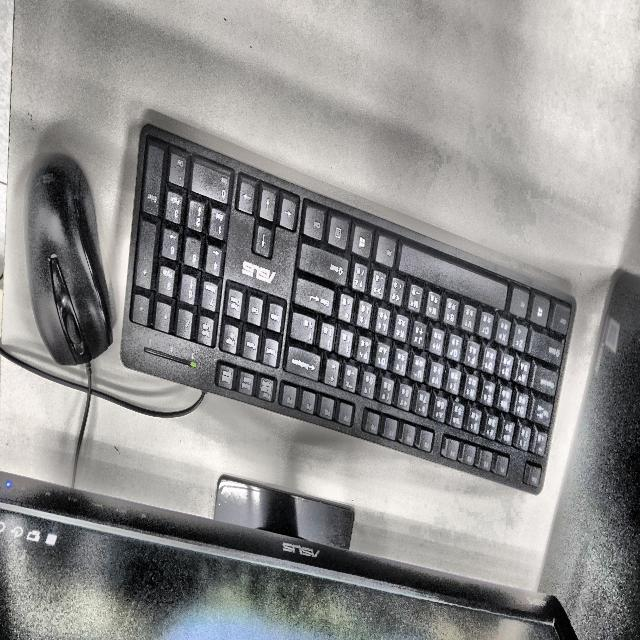Keyboard: (121, 125, 576, 494)
MOUSE: (24, 153, 112, 365)
Screen: (0, 473, 576, 640)
